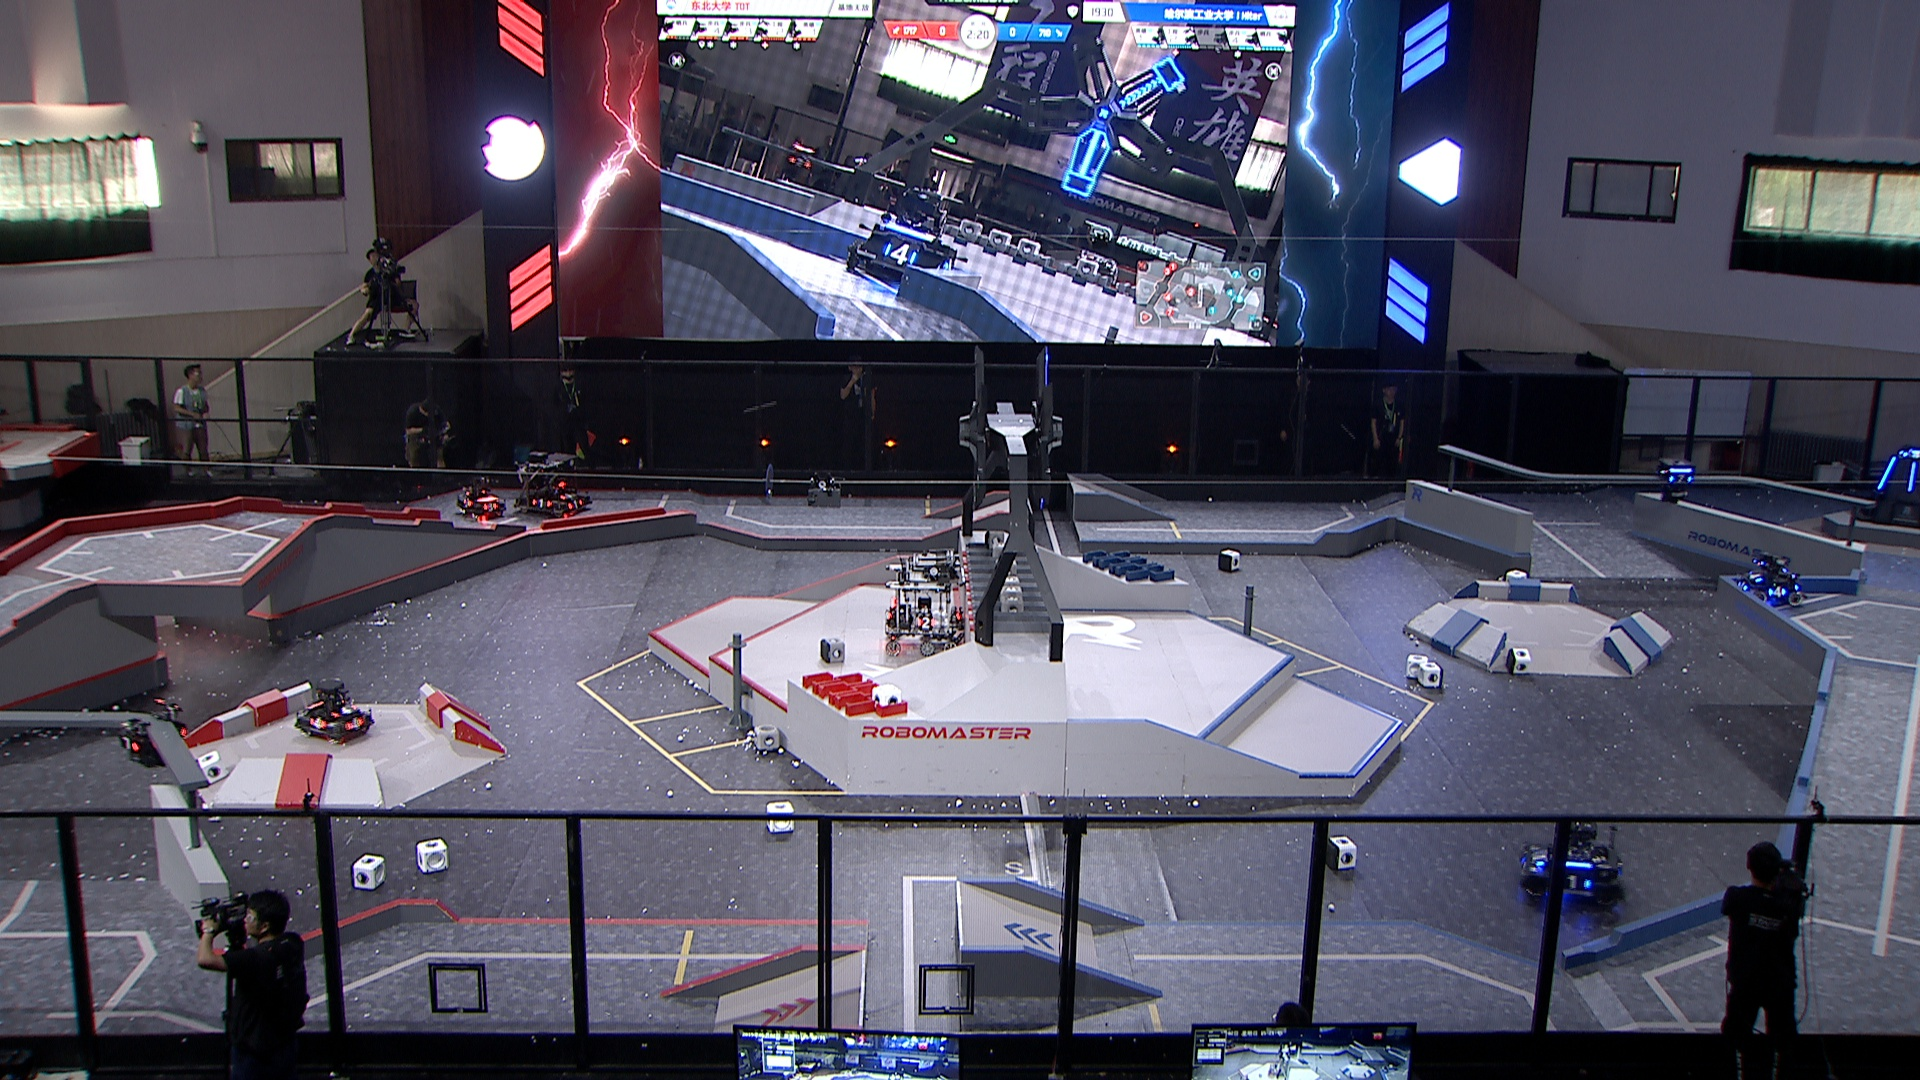armor: (1878, 456, 1898, 495), (1563, 873, 1594, 891), (116, 732, 142, 752), (330, 704, 357, 717), (1518, 855, 1532, 880), (1531, 847, 1548, 868), (915, 616, 938, 632), (344, 716, 367, 732), (1907, 462, 1917, 493), (1667, 473, 1695, 485), (1768, 585, 1789, 599), (1747, 570, 1764, 585), (566, 498, 585, 512), (309, 717, 328, 731), (531, 498, 553, 509), (483, 501, 498, 514), (1902, 450, 1920, 460), (556, 491, 578, 500), (462, 496, 473, 509), (1735, 580, 1750, 591)
base: (1851, 447, 1920, 533)
car: (1518, 815, 1626, 906), (884, 546, 967, 659), (295, 674, 380, 745), (512, 447, 593, 520), (1733, 550, 1807, 608), (455, 475, 509, 522)
ignore: (845, 185, 957, 287), (1073, 251, 1120, 284), (785, 142, 816, 178)
watcher: (115, 698, 190, 770), (1656, 458, 1697, 506)
